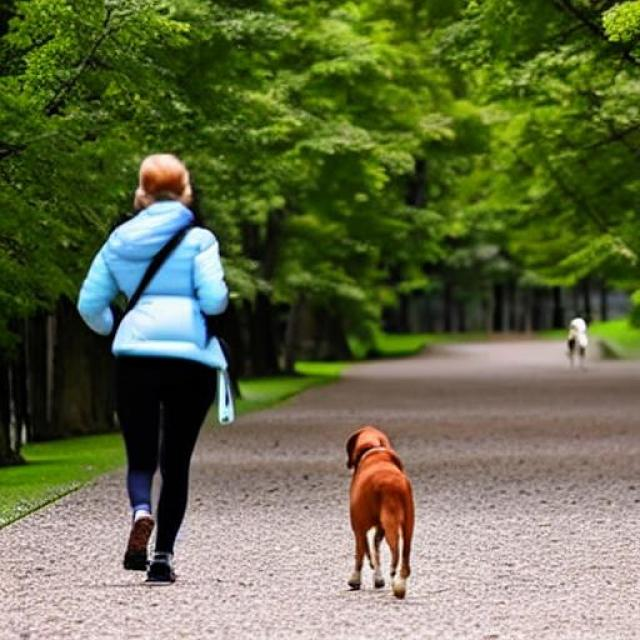Unleashed_Dog: (119, 340, 415, 600)
